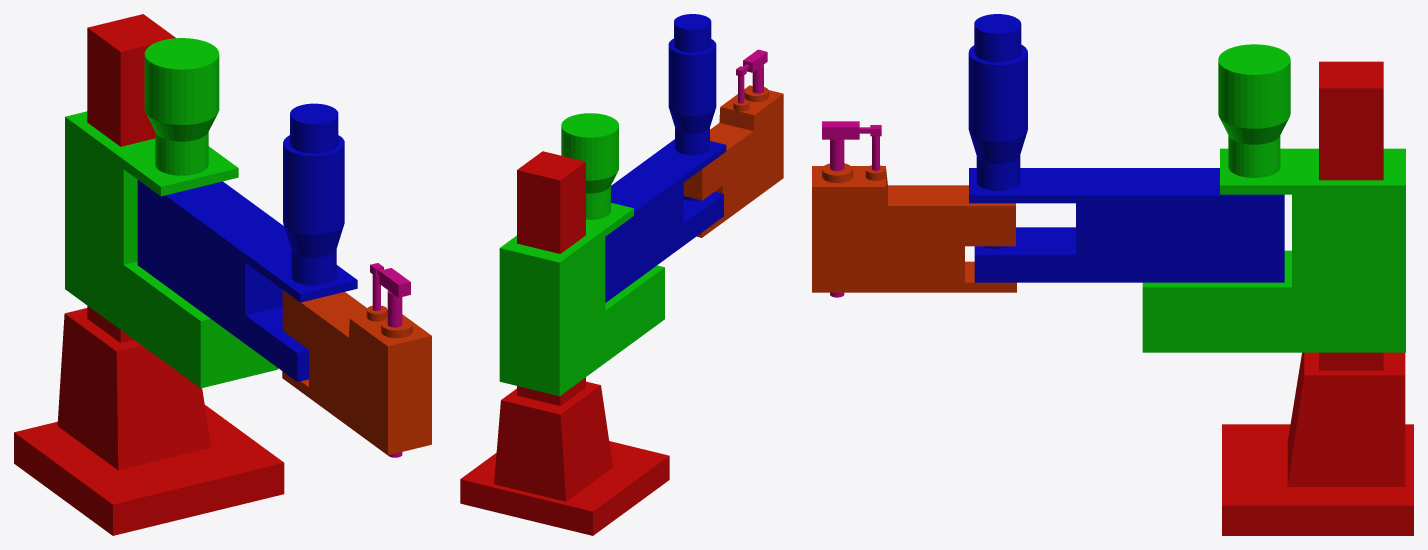
The picture shows the model from 3 angles, left to right: view 1: azimuth 30°, elevation 25°; view 2: azimuth 150°, elevation 25°; view 3: azimuth 270°, elevation 25°; orthographic projection. The views are drawn at different scales.
Visible parts, largest first — view 1: base, vertical_big, hotizontal_on_start, horizontal_on_end, vertical_mini; view 2: base, vertical_big, hotizontal_on_start, horizontal_on_end, vertical_mini; view 3: vertical_big, hotizontal_on_start, base, horizontal_on_end, vertical_mini.
Part boxes in pixels (x1=…): base: x1=14, y1=14, x2=284, y2=535; vertical_big: x1=65, y1=38, x2=278, y2=388; hotizontal_on_start: x1=137, y1=103, x2=357, y2=381; horizontal_on_end: x1=282, y1=290, x2=431, y2=455; vertical_mini: x1=370, y1=263, x2=410, y2=457; base: x1=460, y1=151, x2=669, y2=535; vertical_big: x1=499, y1=113, x2=664, y2=396; hotizontal_on_start: x1=605, y1=14, x2=726, y2=302; horizontal_on_end: x1=683, y1=85, x2=783, y2=237; vertical_mini: x1=736, y1=49, x2=767, y2=103; vertical_big: x1=1142, y1=44, x2=1405, y2=352; hotizontal_on_start: x1=968, y1=14, x2=1284, y2=282; base: x1=1222, y1=61, x2=1413, y2=535; horizontal_on_end: x1=812, y1=163, x2=1016, y2=292; vertical_mini: x1=822, y1=121, x2=881, y2=297.
Size of the model in its own units: 1.68 by 4.56 by 5.27.
